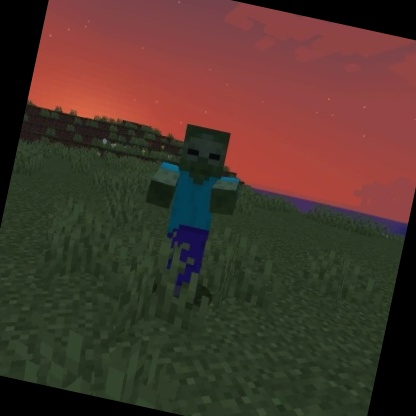zombie: (122, 115, 253, 311)
